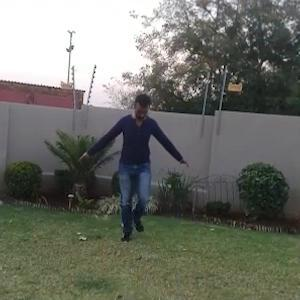land: (84, 98, 197, 247)
